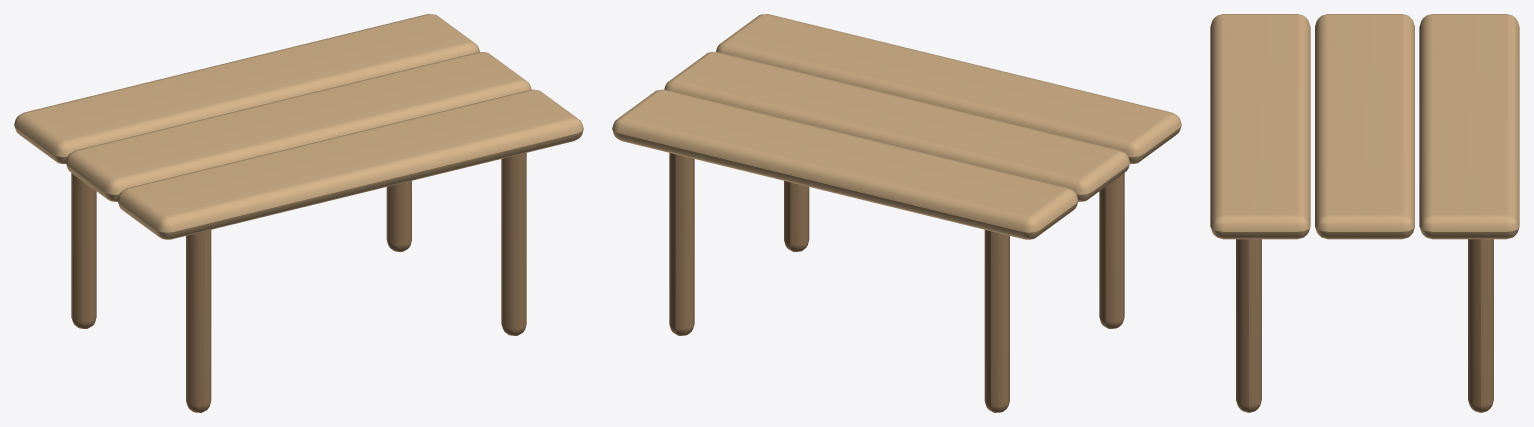
Rendered from table.glb.
The picture shows the model from 3 angles, left to right: view 1: azimuth 30°, elevation 25°; view 2: azimuth 150°, elevation 25°; view 3: azimuth 270°, elevation 25°; orthographic projection.
Parts seen in each view (by area): view 1: Plank, Plank.001, Plank.002, Leg.002, Leg, Leg.001, Leg.003; view 2: Plank.002, Plank, Plank.001, Leg.003, Leg.001, Leg, Leg.002; view 3: Plank, Plank.002, Plank.001, Leg.002, Leg.003.
Part boxes in pixels (bbox=[...]): Plank: bbox=[117, 89, 583, 239]; Plank.001: bbox=[66, 51, 531, 201]; Plank.002: bbox=[14, 14, 479, 163]; Leg.002: bbox=[501, 153, 526, 335]; Leg: bbox=[186, 230, 211, 412]; Leg.001: bbox=[71, 173, 96, 328]; Leg.003: bbox=[386, 181, 411, 251]; Plank.002: bbox=[612, 89, 1078, 239]; Plank: bbox=[716, 14, 1181, 163]; Plank.001: bbox=[664, 51, 1129, 201]; Leg.003: bbox=[669, 153, 694, 335]; Leg.001: bbox=[984, 230, 1009, 412]; Leg: bbox=[1099, 173, 1124, 328]; Leg.002: bbox=[784, 181, 809, 251]; Plank: bbox=[1210, 14, 1310, 239]; Plank.002: bbox=[1419, 14, 1519, 239]; Plank.001: bbox=[1315, 14, 1414, 239]; Leg.002: bbox=[1236, 239, 1261, 412]; Leg.003: bbox=[1468, 239, 1493, 412].
Bounding box in the file's own units: 1.35 × 0.655 × 0.838.
